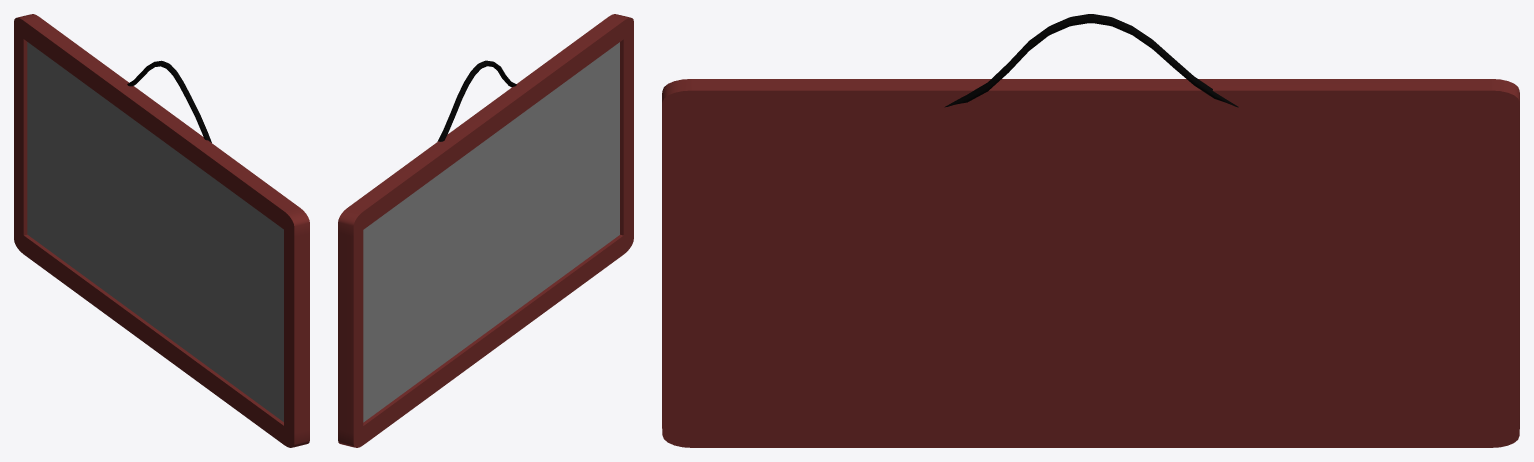
Rendered from Big_Frame.fbx.
3 views of the same model, side by side, from view 1: azimuth 30°, elevation 25°; view 2: azimuth 150°, elevation 25°; view 3: azimuth 270°, elevation 25° (orthographic). The views are drawn at different scales.
Parts seen in each view (by area): view 1: Cylinder; view 2: Cylinder; view 3: Cylinder.
Part boxes in pixels (x1,y1,x2,y2): Cylinder: [14, 14, 309, 447]; Cylinder: [338, 14, 633, 447]; Cylinder: [662, 14, 1519, 447].
Bounding box in the file's own units: 54.59 × 737 × 1325.
